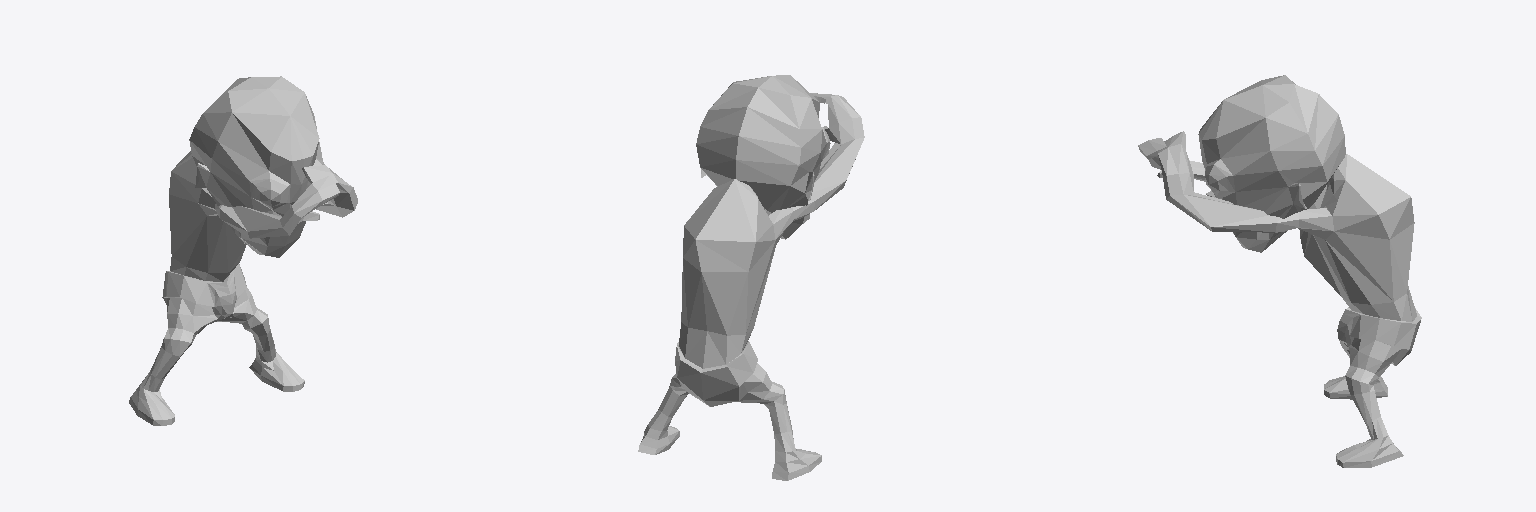
The model's file is GuardianNormal_000109.obj.
3 views of the same model, side by side, from view 1: azimuth 30°, elevation 25°; view 2: azimuth 150°, elevation 25°; view 3: azimuth 270°, elevation 25° (orthographic).
Visible parts, largest first — view 1: untitled2:Mesh1.001; view 2: untitled2:Mesh1.001; view 3: untitled2:Mesh1.001.
Part boxes in pixels (x1,y1,x2,y2): untitled2:Mesh1.001: (129, 76, 357, 425); untitled2:Mesh1.001: (638, 75, 864, 480); untitled2:Mesh1.001: (1138, 75, 1421, 467).
Size of the model in its own units: 6.85 by 14.12 by 10.49.